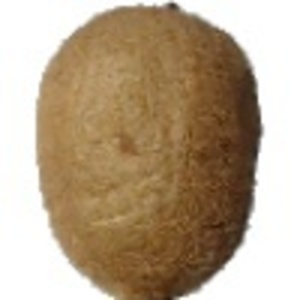kiwi: (34, 2, 264, 300)
